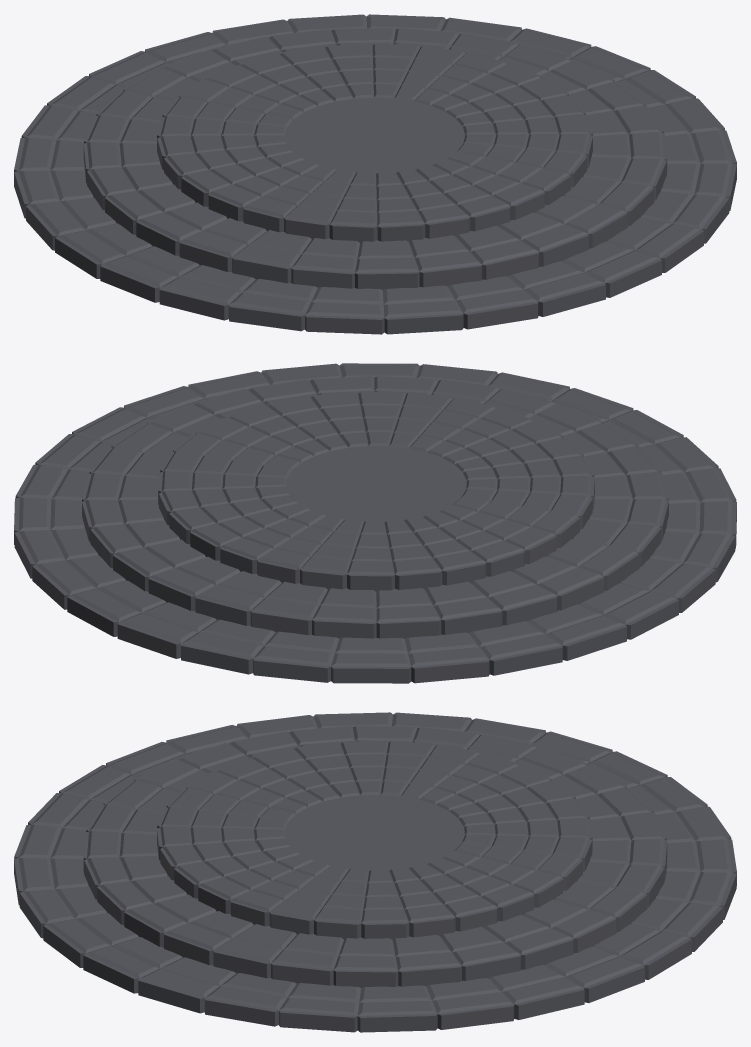
File: KesselStufen.fbx
The picture shows the model from 3 angles, top to bottom: view 1: azimuth 30°, elevation 25°; view 2: azimuth 150°, elevation 25°; view 3: azimuth 270°, elevation 25°; orthographic projection.
Visible parts, largest first — view 1: StufenKessel; view 2: StufenKessel; view 3: StufenKessel.
Part boxes in pixels (x1,y1,x2,y2): StufenKessel: (14, 14, 736, 334); StufenKessel: (14, 363, 736, 683); StufenKessel: (14, 712, 736, 1032).
Bounding box in the file's own units: 1140 × 84.08 × 1140.
